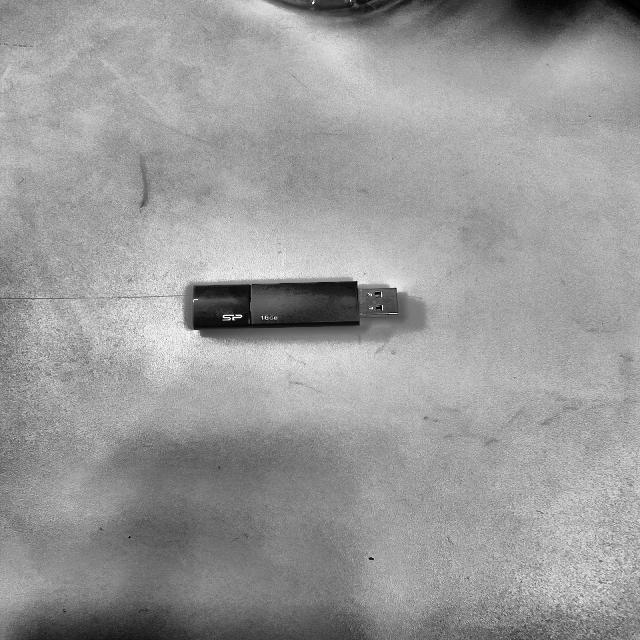Mug: (188, 280, 401, 332)
